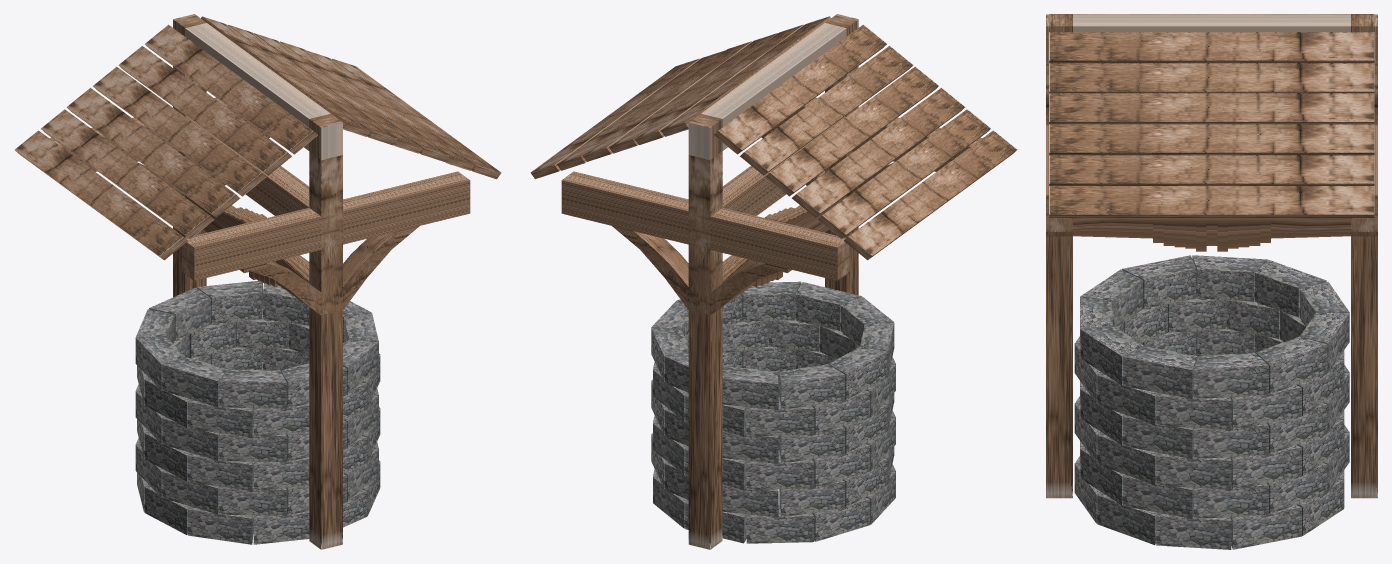
The model's file is well.fbx.
3 renders of one model, left to right at view 1: azimuth 30°, elevation 25°; view 2: azimuth 150°, elevation 25°; view 3: azimuth 270°, elevation 25°, orthographic. The views are drawn at different scales.
Parts seen in each view (by area): view 1: Box001; view 2: Box001; view 3: Box001.
Boxes of the visible parts, x1,y1,x2,y2 form: Box001: (15, 14, 501, 549); Box001: (530, 14, 1017, 549); Box001: (1046, 14, 1377, 549).
Size of the model in its own units: 60.43 by 71.28 by 45.43.
2 materials, 2 textured.
